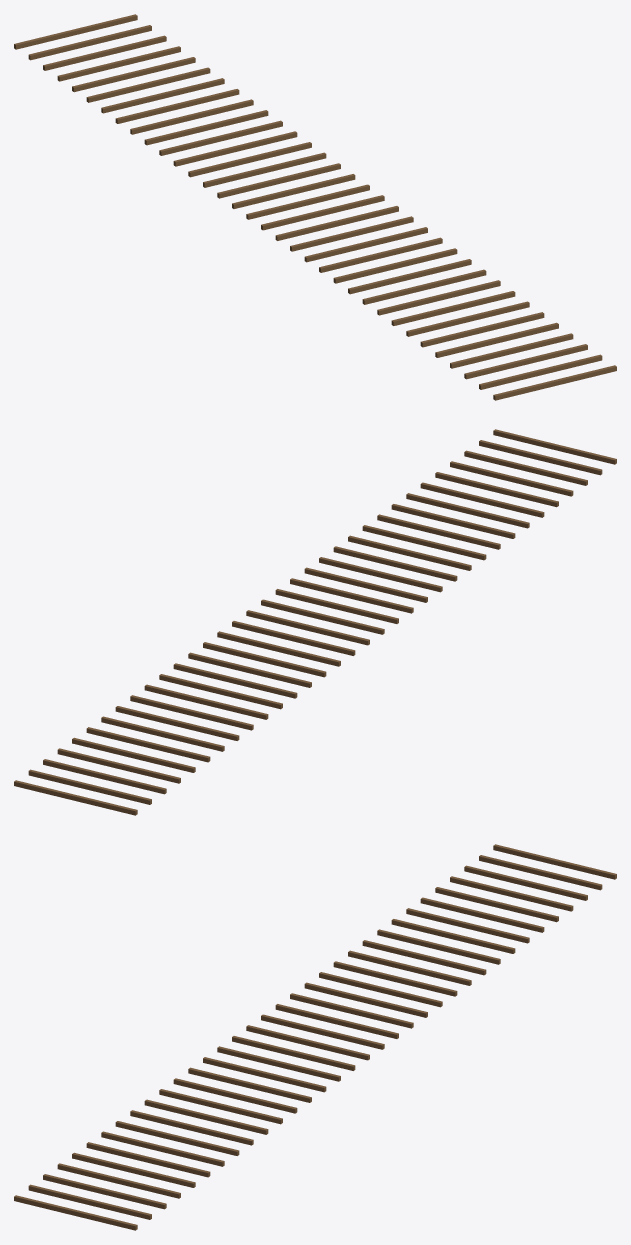
Rendered from 1278-Buildings-shell-pieces-roof-terrace-emitTerrace-340-triangles-2-90-x-0-10-x-19-8.glb.
3 renders of one model, top to bottom at view 1: azimuth 30°, elevation 25°; view 2: azimuth 150°, elevation 25°; view 3: azimuth 330°, elevation 25°, orthographic.
Parts seen in each view (by area): view 1: emitTerrace; view 2: emitTerrace; view 3: emitTerrace.
Part boxes in pixels (bbox=[...]): emitTerrace: bbox=[14, 14, 616, 400]; emitTerrace: bbox=[14, 429, 616, 815]; emitTerrace: bbox=[14, 844, 616, 1230].
Bounding box in the file's own units: 2.9 × 0.1 × 19.88.
